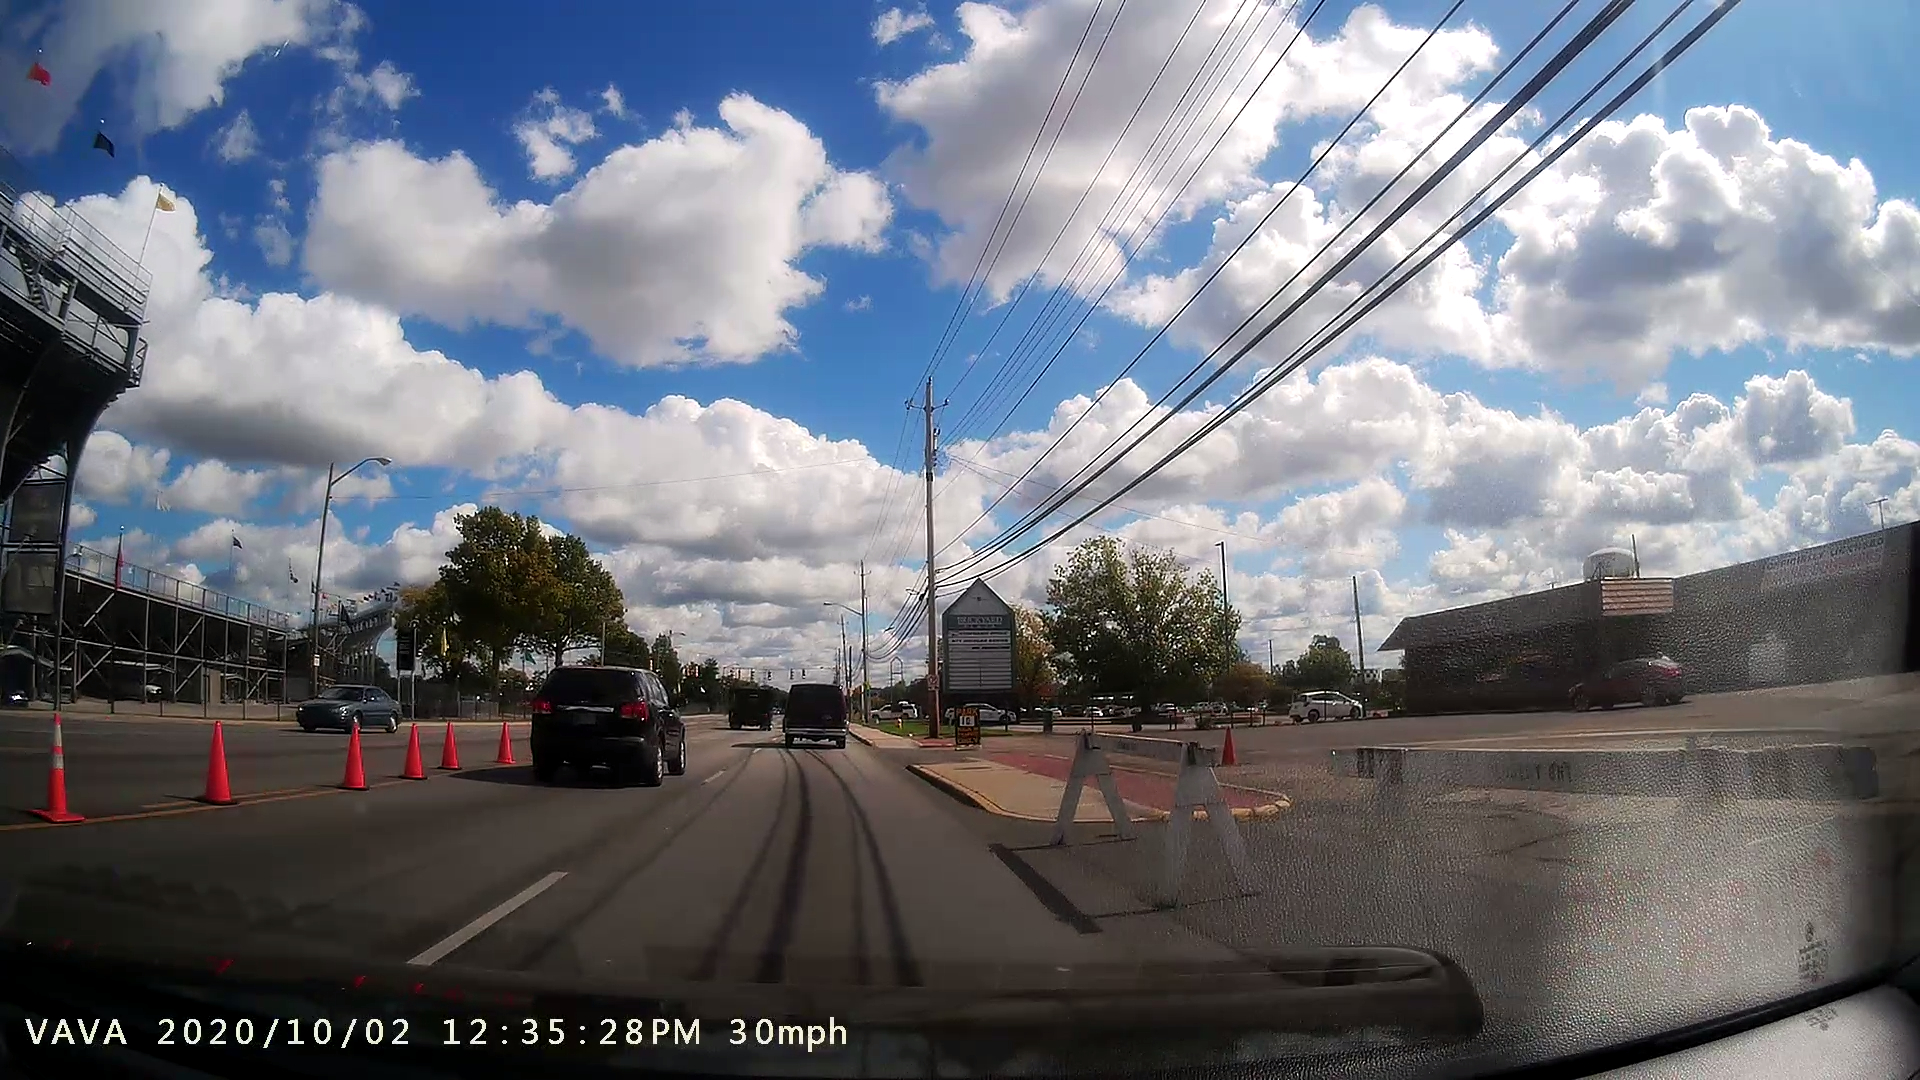const_barricade: (1043, 720, 1266, 899)
const_cone: (32, 711, 95, 824), (193, 700, 251, 822), (327, 709, 380, 799), (392, 709, 435, 793), (434, 705, 471, 789), (488, 705, 524, 774)
